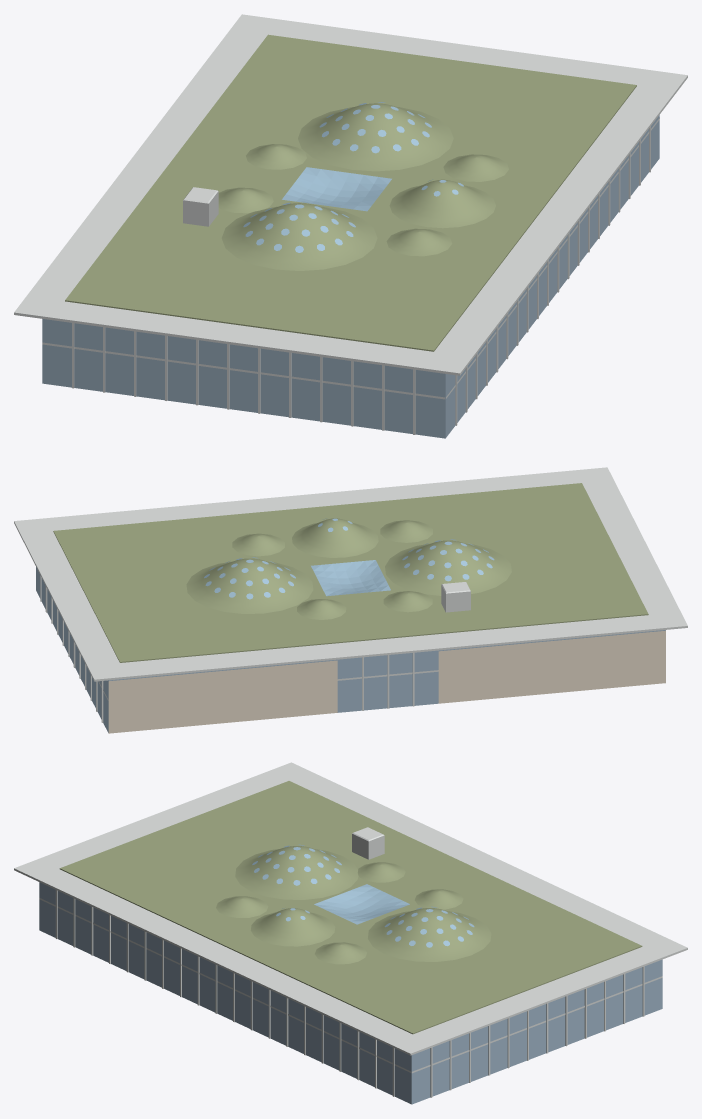
Rendered from detail.glb.
The picture shows the model from 3 angles, top to bottom: view 1: azimuth 30°, elevation 25°; view 2: azimuth 150°, elevation 25°; view 3: azimuth 270°, elevation 25°; orthographic projection. The views are drawn at different scales.
Visible parts, largest first — view 1: california-academy-of-sciences; view 2: california-academy-of-sciences; view 3: california-academy-of-sciences.
Part boxes in pixels (bbox=[...]): california-academy-of-sciences: bbox=[14, 14, 687, 438]; california-academy-of-sciences: bbox=[14, 467, 687, 733]; california-academy-of-sciences: bbox=[14, 762, 687, 1104].
Bounding box in the file's own units: 192 × 26.95 × 187.
